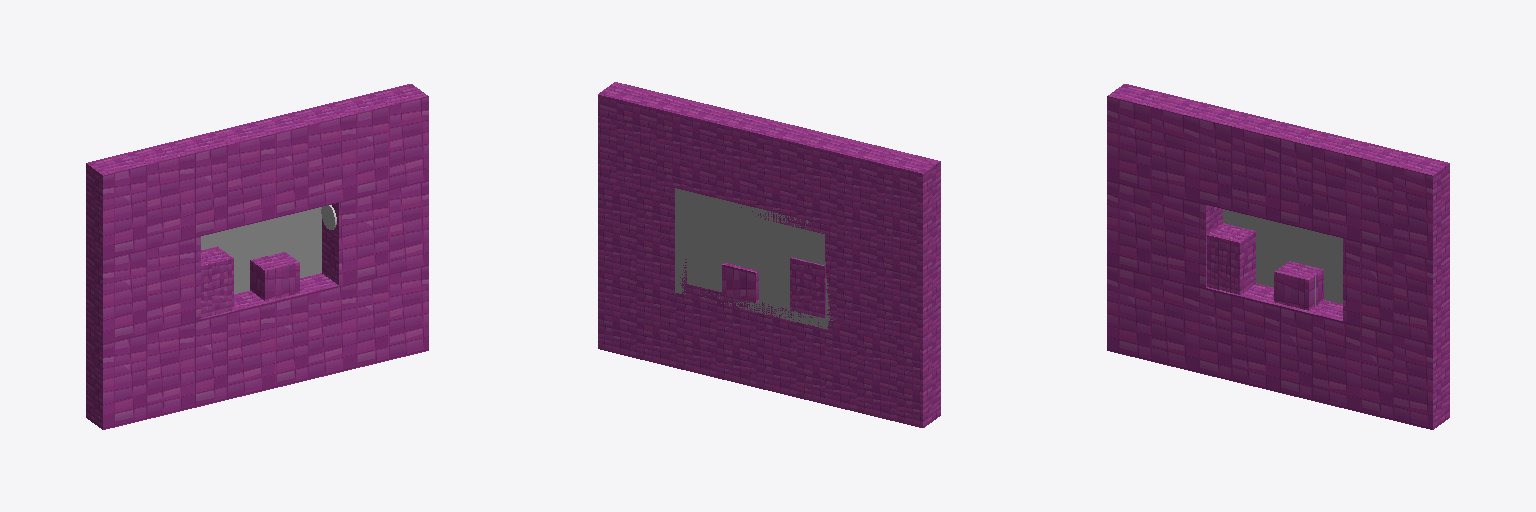
The picture shows the model from 3 angles: view 1: azimuth 30°, elevation 25°; view 2: azimuth 150°, elevation 25°; view 3: azimuth 330°, elevation 25°; orthographic projection.
Visible parts, largest first — view 1: Cube, Plane, Cube.001, Cube.002; view 2: Cube, Plane, Cube.001, Cube.002; view 3: Cube, Plane, Cube.001, Cube.002.
Part boxes in pixels (x1,y1,x2,y2): Cube: (86,84,428,429); Plane: (201,207,321,293); Cube.001: (201,246,233,317); Cube.002: (250,252,299,300); Cube: (598,82,940,427); Plane: (675,188,832,329); Cube.001: (790,257,825,317); Cube.002: (722,263,758,302); Cube: (1107,84,1449,429); Plane: (1223,209,1342,303); Cube.001: (1207,223,1255,294); Cube.002: (1274,261,1323,310).
Bounding box in the file's own units: 32.55 × 24.33 × 3.42.
3 materials, 1 textured.